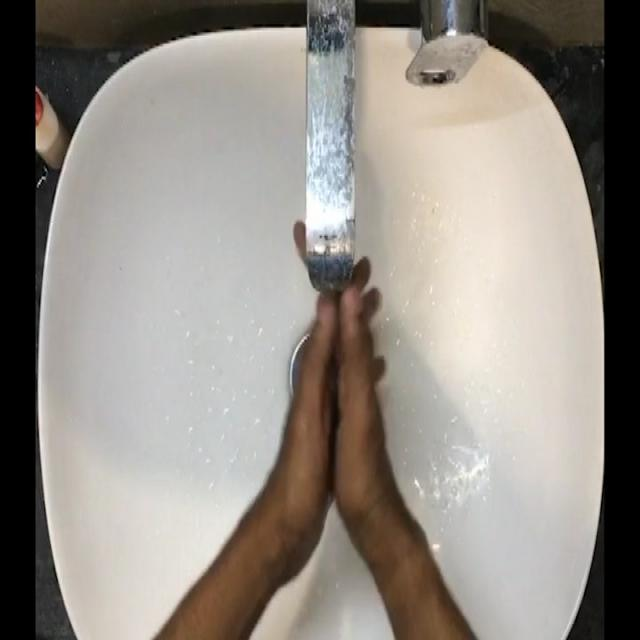step_3: (260, 210, 404, 537)
